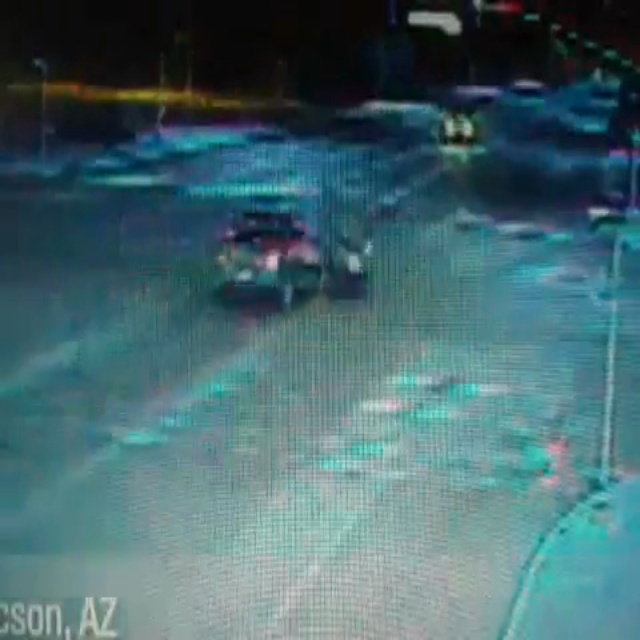acc: (204, 198, 371, 309)
